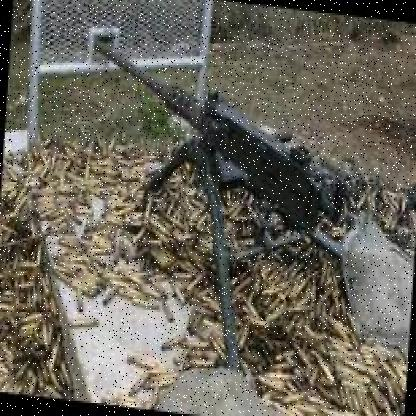rifle: (87, 35, 338, 249)
